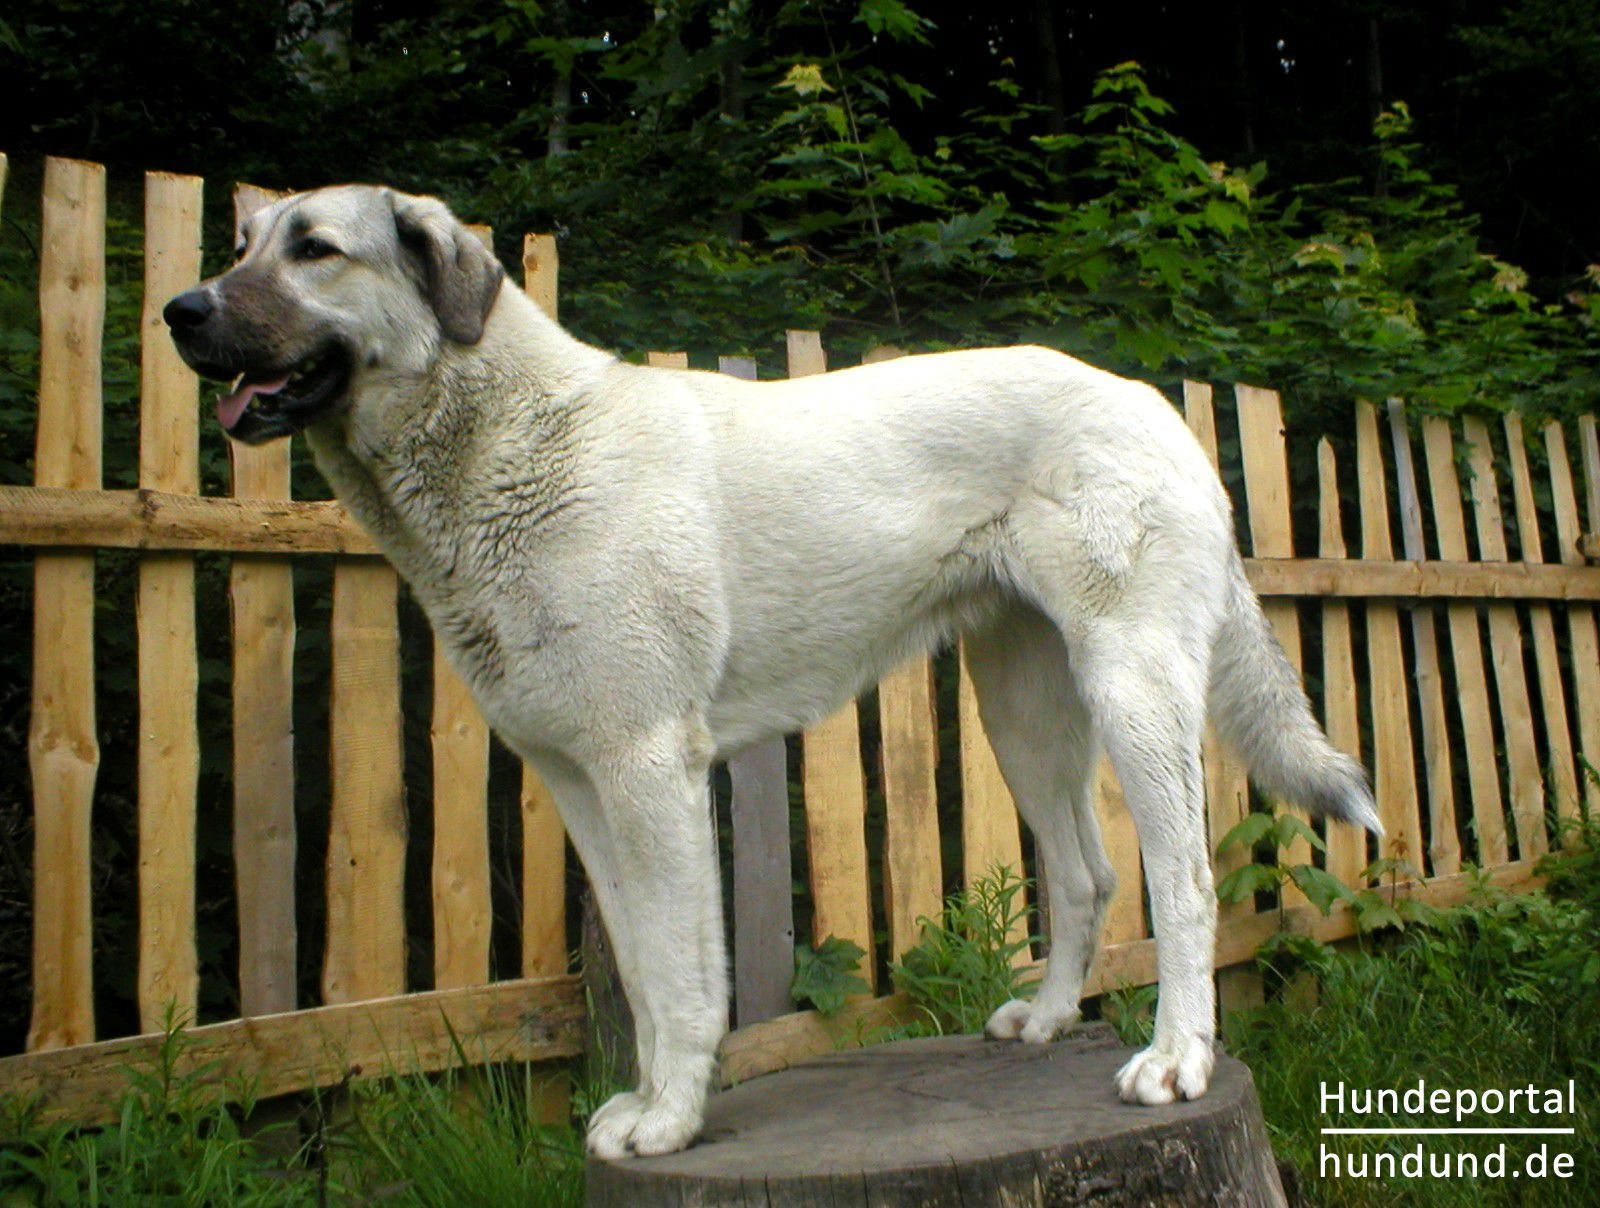kangal: (160, 181, 1387, 1162)
